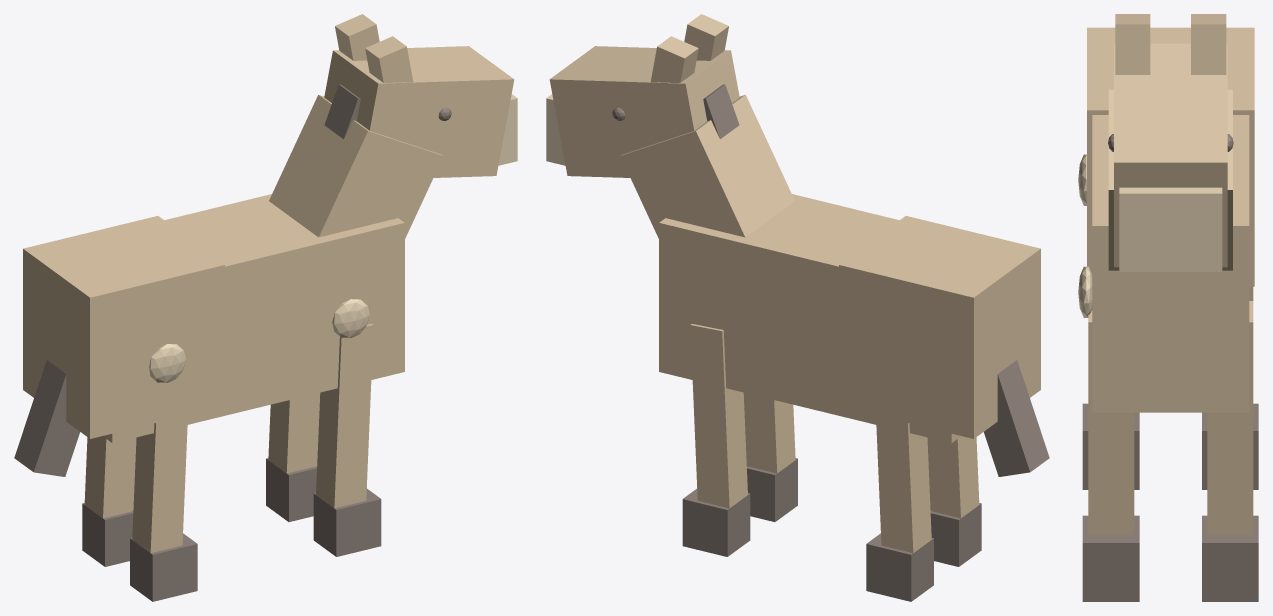
The model's file is horse-wooden.glb.
The picture shows the model from 3 angles, left to right: view 1: azimuth 30°, elevation 25°; view 2: azimuth 150°, elevation 25°; view 3: azimuth 270°, elevation 25°; orthographic projection. The views are drawn at different scales.
Visible parts, largest first — view 1: Rump.002, Body.002, Head.002, Neck.002, Leg.010, Leg.008, Tail.002, Leg.009, Leg.011, Hoof.010, Hoof.008, Hoof.009 (+7 smaller); view 2: Rump.002, Body.002, Head.002, Neck.002, Leg.011, Leg.009, Tail.002, Leg.008, Leg.010, Hoof.011, Hoof.009, Hoof.008 (+5 smaller); view 3: Body.002, Head.002, Muzzle.002, Rump.002, Leg.011, Leg.010, Hoof.010, Hoof.011, Ear.004, Ear.005, Neck.002, Hoof.008 (+3 smaller).
Part boxes in pixels (<box>): Rump.002: <box>23,216,224,438</box>; Body.002: <box>103,194,404,443</box>; Head.002: <box>324,46,514,177</box>; Neck.002: <box>269,95,443,238</box>; Leg.010: <box>316,324,373,508</box>; Leg.008: <box>132,415,187,553</box>; Tail.002: <box>14,360,79,476</box>; Leg.009: <box>84,436,136,518</box>; Leg.011: <box>268,392,320,473</box>; Hoof.010: <box>313,488,381,556</box>; Hoof.008: <box>130,533,197,601</box>; Hoof.009: <box>82,503,133,566</box>; Rump.002: <box>839,216,1040,438</box>; Body.002: <box>659,194,960,443</box>; Head.002: <box>549,46,739,177</box>; Neck.002: <box>620,95,794,238</box>; Leg.011: <box>690,324,747,508</box>; Leg.009: <box>876,415,931,553</box>; Tail.002: <box>984,360,1049,476</box>; Leg.008: <box>927,436,979,518</box>; Leg.010: <box>743,392,795,473</box>; Hoof.011: <box>682,488,750,556</box>; Hoof.009: <box>866,533,933,601</box>; Hoof.008: <box>930,503,981,566</box>; Body.002: <box>1092,115,1249,412</box>; Head.002: <box>1114,43,1227,267</box>; Muzzle.002: <box>1119,187,1222,271</box>; Rump.002: <box>1087,27,1254,286</box>; Leg.011: <box>1207,301,1253,535</box>; Leg.010: <box>1088,310,1134,535</box>; Hoof.010: <box>1082,515,1139,601</box>; Hoof.011: <box>1202,515,1258,601</box>; Ear.004: <box>1115,14,1150,74</box>; Ear.005: <box>1191,14,1226,74</box>; Neck.002: <box>1108,89,1232,270</box>; Hoof.008: <box>1082,403,1139,489</box>.
Size of the model in its own units: 2.52 by 2.45 by 0.667.
